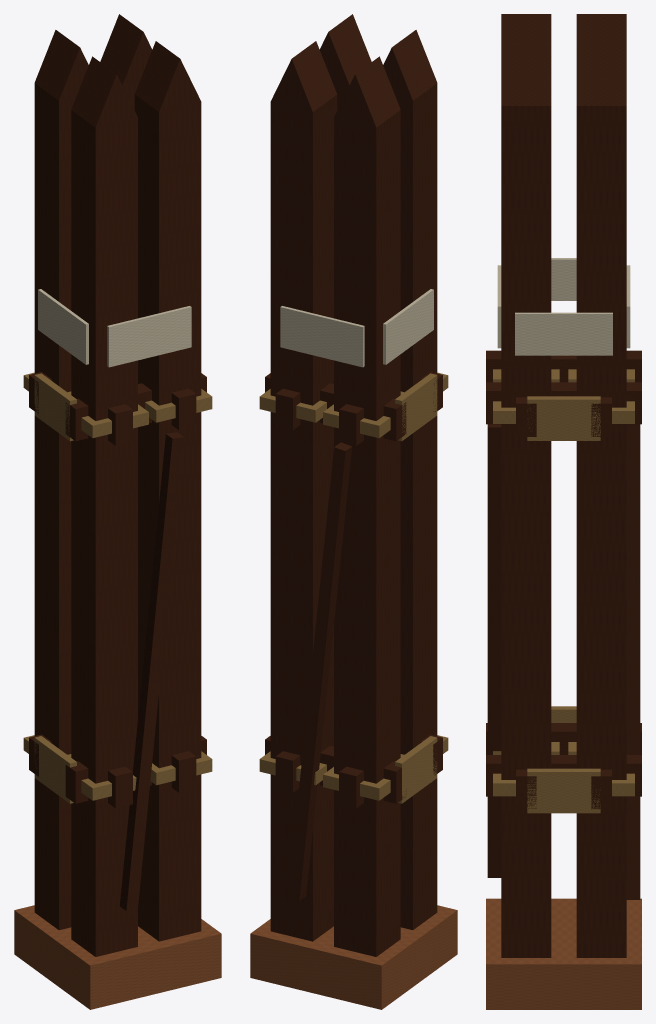
File: Berber_PalisadeBastion_Age1_straight.fbx
3 renders of one model, left to right at view 1: azimuth 30°, elevation 25°; view 2: azimuth 150°, elevation 25°; view 3: azimuth 270°, elevation 25°, orthographic. The views are drawn at different scales.
Parts seen in each view (by area): view 1: split_timber_upright.004, split_timber_upright.006, split_timber_upright.005, compacted_earth_footing.001, terminal_diagonal_stay.008, native_owner_stripe_source.006, split_timber_upright.007, native_owner_stripe_source.004, exposed_wall_socket_collar.005, exposed_wall_socket_collar.004, bundle_cross_tie_x.006, bundle_cross_tie_y.005 (+7 smaller); view 2: split_timber_upright.005, split_timber_upright.007, split_timber_upright.004, compacted_earth_footing.001, terminal_diagonal_stay.006, native_owner_stripe_source.007, split_timber_upright.006, native_owner_stripe_source.004, exposed_wall_socket_collar.005, exposed_wall_socket_collar.004, bundle_cross_tie_x.007, bundle_cross_tie_x.005 (+7 smaller); view 3: split_timber_upright.006, split_timber_upright.007, compacted_earth_footing.001, terminal_diagonal_stay.006, terminal_diagonal_stay.008, native_owner_stripe_source.005, exposed_wall_socket_collar.002, exposed_wall_socket_collar.003, split_timber_upright.004, split_timber_upright.005, bundle_cross_tie_y.007, bundle_cross_tie_y.006 (+10 smaller).
Boxes of the visible parts, x1,y1,x2,y2 form: split_timber_upright.004: (71,56,137,956); split_timber_upright.006: (134,41,201,941); split_timber_upright.005: (34,30,88,930); compacted_earth_footing.001: (14,905,221,1009); terminal_diagonal_stay.008: (119,432,183,911); native_owner_stripe_source.006: (107,306,191,367); split_timber_upright.007: (100,14,152,109); native_owner_stripe_source.004: (38,289,88,364); exposed_wall_socket_collar.005: (34,373,76,441); exposed_wall_socket_collar.004: (34,736,76,803); bundle_cross_tie_x.006: (65,373,206,441); bundle_cross_tie_y.005: (171,751,196,792); split_timber_upright.005: (334,56,400,956); split_timber_upright.007: (270,41,337,941); split_timber_upright.004: (383,30,437,930); compacted_earth_footing.001: (250,905,457,1009); terminal_diagonal_stay.006: (288,442,352,900); native_owner_stripe_source.007: (280,306,364,367); split_timber_upright.006: (319,14,371,109); native_owner_stripe_source.004: (383,289,433,364); exposed_wall_socket_collar.005: (395,373,437,441); exposed_wall_socket_collar.004: (395,736,437,803); bundle_cross_tie_x.007: (265,373,406,441); bundle_cross_tie_x.005: (265,736,406,803); split_timber_upright.006: (501,46,551,957); split_timber_upright.007: (576,46,626,957); compacted_earth_footing.001: (486,898,641,1009); terminal_diagonal_stay.006: (626,424,640,899); terminal_diagonal_stay.008: (487,424,501,877); native_owner_stripe_source.005: (515,312,612,355); exposed_wall_socket_collar.002: (527,768,600,813); exposed_wall_socket_collar.003: (527,396,600,440); split_timber_upright.004: (501,14,551,45); split_timber_upright.005: (576,14,626,45); bundle_cross_tie_y.007: (486,382,641,424); bundle_cross_tie_y.006: (486,350,641,382).
Size of the model in its own units: 68.29 by 458 by 68.29.
Materials: 4 (4 with a texture image).
